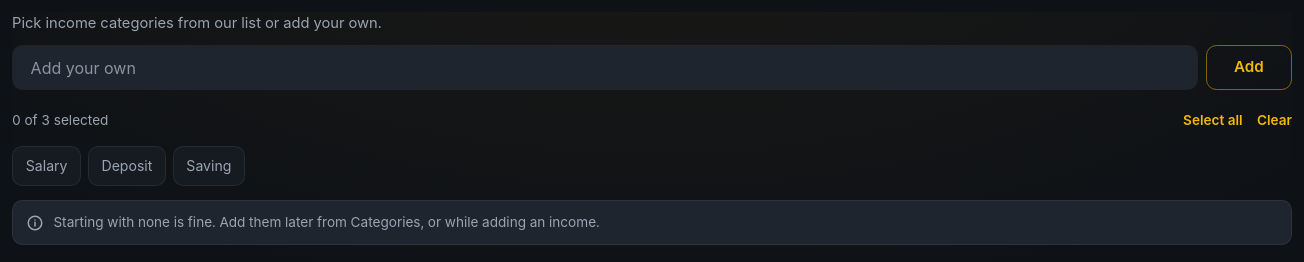
CategoriesStep › toggles a chip and updates the count
The image size is (1304, 262).
Click the button "Salary" at (47, 166), box [12,146,81,186]
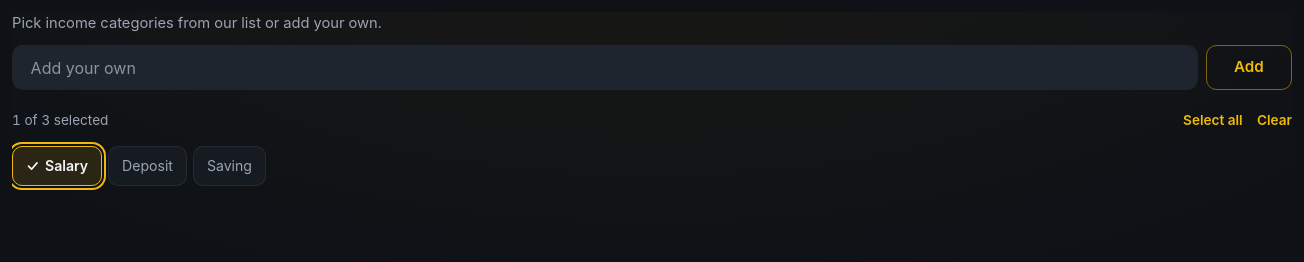
Expected: the text "1 of 3 selected" is shown, [12,110,108,131]
Expected: the text "Starting with none is fine" is gone
